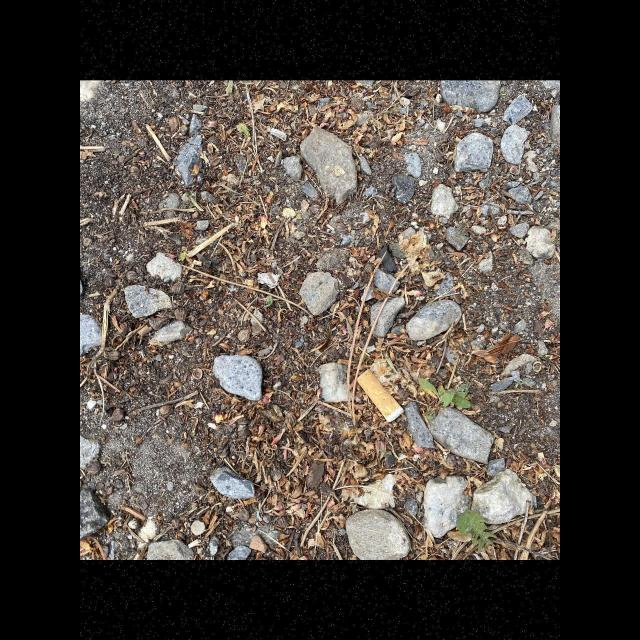cigarette: (356, 368, 404, 423)
